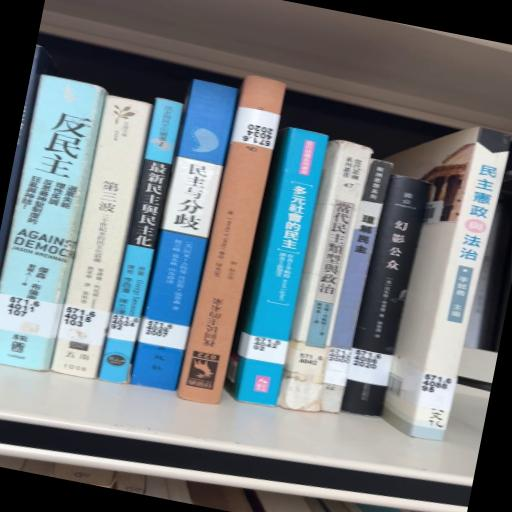reverse: (177, 76, 285, 404)
